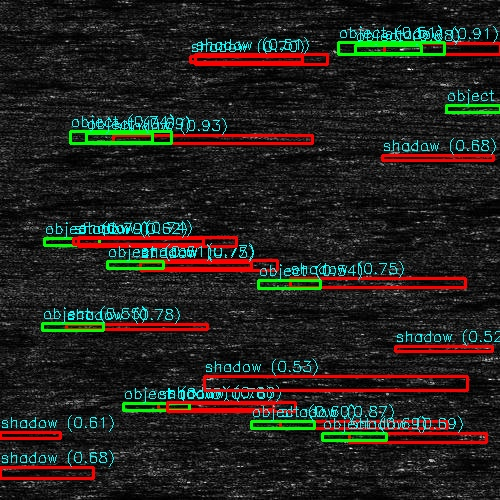rock: (401, 44, 494, 53), (113, 404, 218, 411), (450, 103, 500, 114), (113, 136, 176, 143), (244, 422, 327, 427), (416, 79, 479, 84)
shadow: (145, 136, 319, 143), (286, 422, 446, 427), (166, 404, 278, 411), (448, 44, 500, 53), (448, 79, 500, 84)
